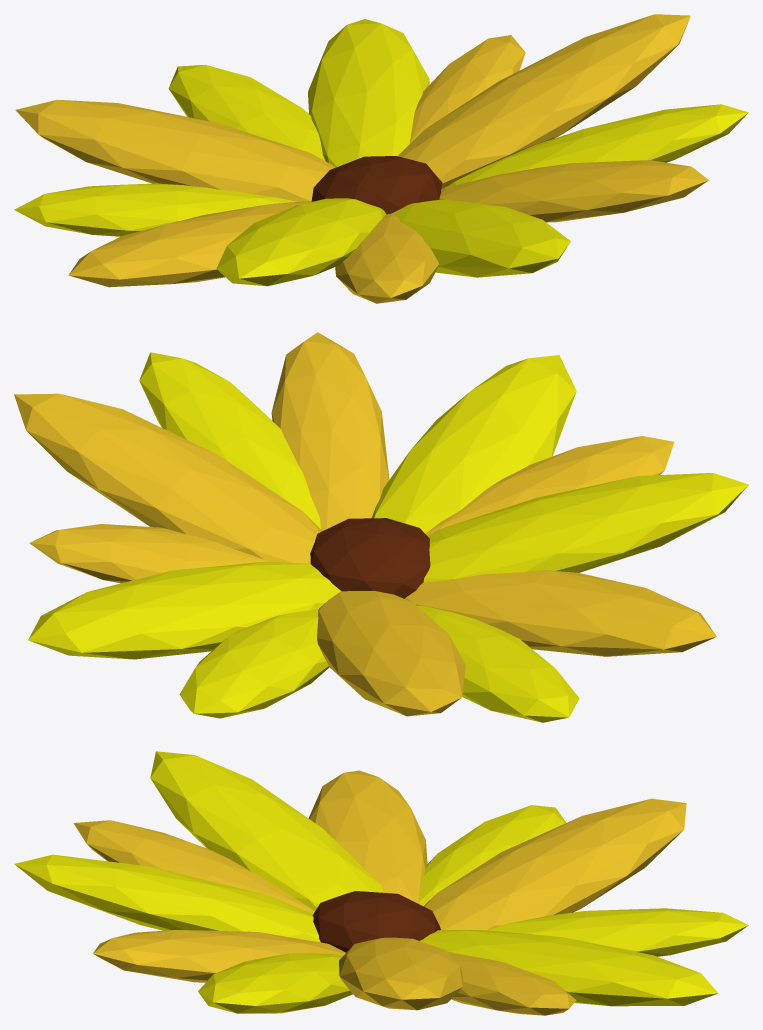
3 views of the same model, one above another, from view 1: azimuth 30°, elevation 25°; view 2: azimuth 150°, elevation 25°; view 3: azimuth 270°, elevation 25° (orthographic). The views are drawn at different scales.
Visible parts, largest first — view 1: 623f3f8e; view 2: 623f3f8e; view 3: 623f3f8e.
Part boxes in pixels (x1,y1,x2,y2): 623f3f8e: [14, 14, 748, 303]; 623f3f8e: [14, 332, 748, 722]; 623f3f8e: [14, 751, 748, 1015].
Size of the model in its own units: 0.0896 by 0.0175 by 0.0875.
